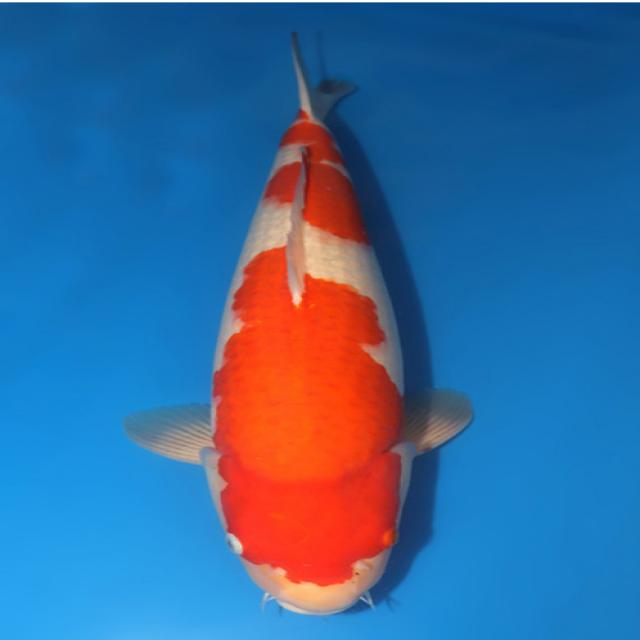Kohaku: (121, 29, 474, 616)
